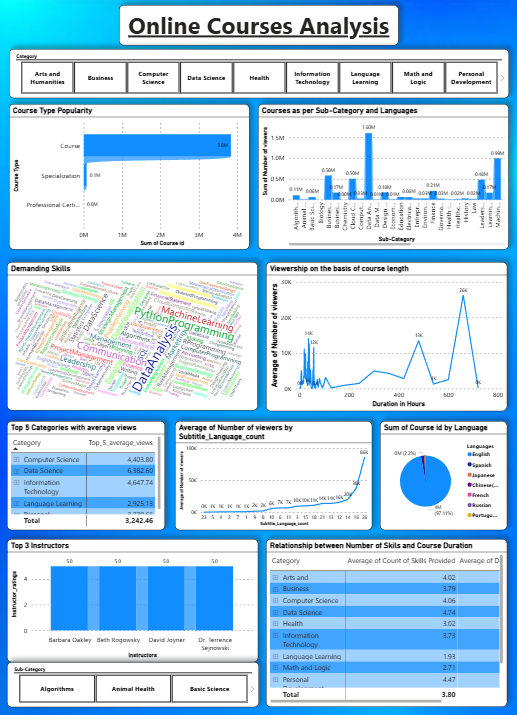

Layout of this report page (visuals, bound fields, positions):
{"tool":"powerbi","page":{"name":"EdTech Analysis - 1","canvas":[1300,1800],"ordinal":0},"visuals":[{"type":"textbox","box":[302.9,18.6,698.6,101.4],"z":0},{"type":"slicer","fields":{"Values":["Online_Courses.Category"]},"box":[27.1,127.1,1250,122.9],"z":1000},{"type":"barChart","title":"Course Type Popularity","fields":{"Category":["Online_Courses.Course Type"],"Y":["Online_Courses.Course id"]},"box":[27.1,265.7,601.4,364.3],"z":2000},{"type":"columnChart","title":"Courses as per Sub-Category and Languages","fields":{"Category":["Online_Courses.Sub-Category","Online_Courses.Language"],"Y":["Online_Courses.Number of viewers"]},"box":[650,265.7,627.1,364.3],"z":3000},{"type":"WordCloud1447959067750","title":"Demanding Skills","fields":{"Category":["Online_Courses.Skills"]},"box":[22.9,660,627.1,371.4],"z":4000},{"type":"pieChart","fields":{"Y":["Online_Courses.Course id"],"Category":["Online_Courses.Language"]},"box":[955,1057.5,317.5,272.5],"z":5000},{"type":"pivotTable","title":"Top 5 Categories with average views","fields":{"Rows":["Online_Courses.Category","Online_Courses.Language"],"Values":["Online_Courses.Rank_category_average_views"]},"box":[23.3,1056.7,395,273.3],"z":6000},{"type":"lineChart","fields":{"Category":["Online_Courses.Subtitle_Language_count"],"Y":["Online_Courses.Number of viewers"]},"box":[442.5,1057.5,492.5,272.5],"z":7000},{"type":"columnChart","title":"Top 3 Instructors","fields":{"Category":["Teachers.Instructors"],"Y":["Teachers.Instructor_ratings"]},"box":[22.5,1352.5,627.5,307.5],"z":8000},{"type":"slicer","fields":{"Values":["Teachers.Sub-Category"]},"box":[22.9,1660,630,112.9],"z":9000},{"type":"lineChart","title":"Viewership on the basis of course length","fields":{"Y":["Online_Courses.Number of viewers"],"Category":["Online_Courses.Duration in Hours"]},"box":[670,660,602.9,372.9],"z":10000},{"type":"pivotTable","title":"Relationship between  Number of Skils and Course Duration","fields":{"Rows":["Online_Courses.Category","Online_Courses.Sub-Category"],"Values":["Online_Courses.Count of Skills Provided","Online_Courses.Duration in Hours"]},"box":[670,1352.9,602.9,420],"z":11000}]}

Visuals, with their boxes in screenshot pixels (x1, y1, x2, y2), scaled from the page's 1300x1800 canvas onto the 517x715 screenshot:
textbox: pyautogui.locateOnScreen(120, 7, 398, 48)
slicer - Online_Courses.Category: pyautogui.locateOnScreen(11, 50, 508, 99)
"Course Type Popularity" barChart: pyautogui.locateOnScreen(11, 106, 250, 250)
"Courses as per Sub-Category and Languages" columnChart: pyautogui.locateOnScreen(258, 106, 508, 250)
"Demanding Skills" WordCloud1447959067750: pyautogui.locateOnScreen(9, 262, 258, 410)
pieChart - Online_Courses.Course id x Online_Courses.Language: pyautogui.locateOnScreen(380, 420, 506, 528)
"Top 5 Categories with average views" pivotTable: pyautogui.locateOnScreen(9, 420, 166, 528)
lineChart - Online_Courses.Subtitle_Language_count x Online_Courses.Number of viewers: pyautogui.locateOnScreen(176, 420, 372, 528)
"Top 3 Instructors" columnChart: pyautogui.locateOnScreen(9, 537, 258, 659)
slicer - Teachers.Sub-Category: pyautogui.locateOnScreen(9, 659, 260, 704)
"Viewership on the basis of course length" lineChart: pyautogui.locateOnScreen(266, 262, 506, 410)
"Relationship between  Number of Skils and Course Duration" pivotTable: pyautogui.locateOnScreen(266, 537, 506, 704)
